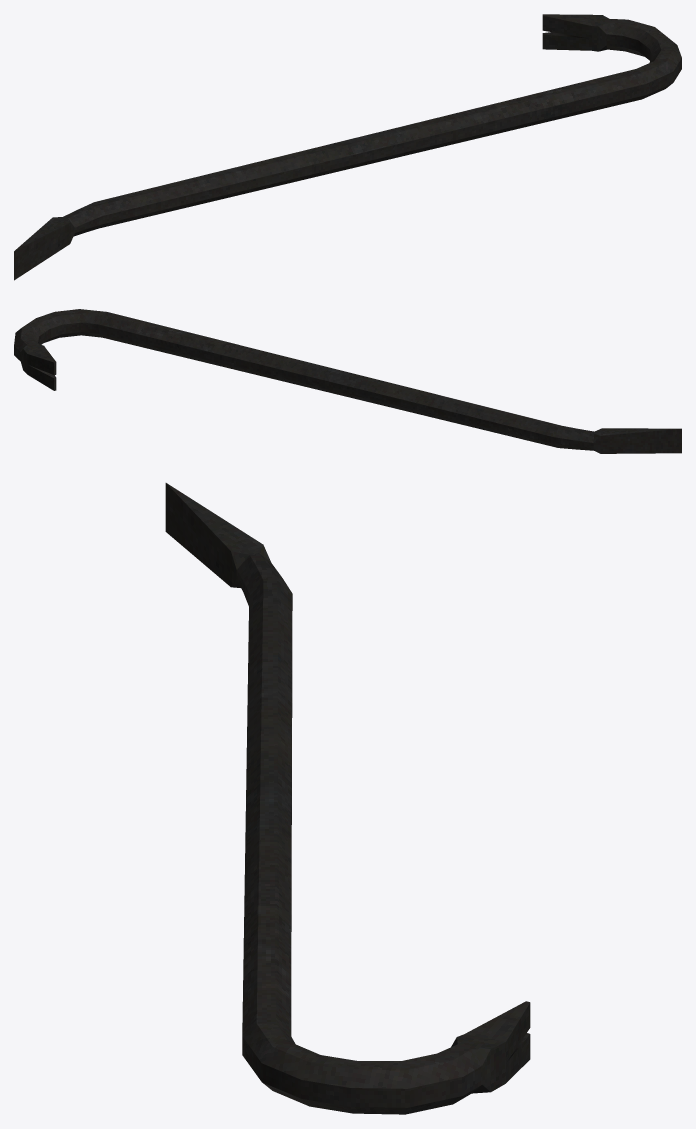
The model's file is rusty_crowbar_mx_1_1.glb.
3 views of the same model, one above another, from view 1: azimuth 30°, elevation 25°; view 2: azimuth 150°, elevation 25°; view 3: azimuth 270°, elevation 25° (orthographic). The views are drawn at different scales.
Visible parts, largest first — view 1: rusty_crowbar_mx_1_1; view 2: rusty_crowbar_mx_1_1; view 3: rusty_crowbar_mx_1_1.
Part boxes in pixels (bbox=[...]): rusty_crowbar_mx_1_1: bbox=[14, 14, 681, 280]; rusty_crowbar_mx_1_1: bbox=[14, 309, 681, 453]; rusty_crowbar_mx_1_1: bbox=[165, 483, 530, 1114].
Size of the model in its own units: 1 by 0.045 by 0.2615.
Materials: 1 (1 with a texture image).
